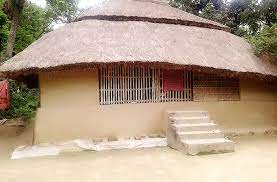Mud House: (13, 3, 273, 152)
